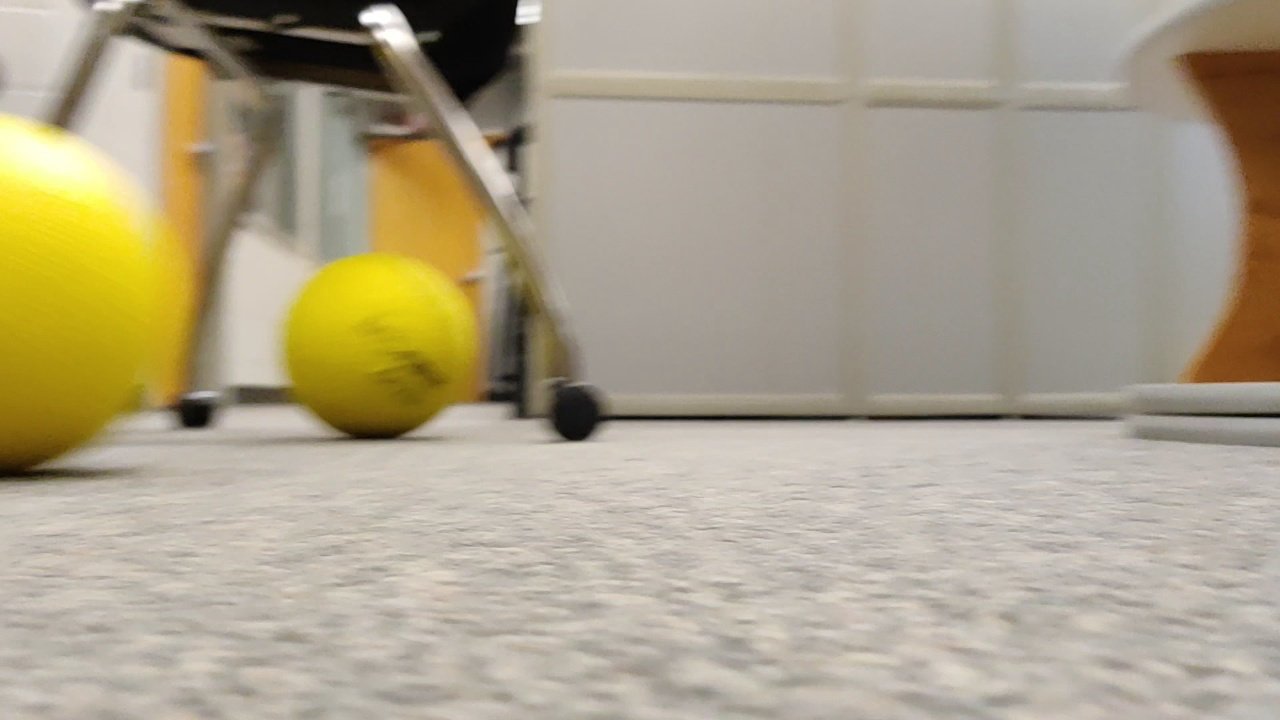Ball: (2, 112, 183, 485), (282, 256, 481, 440)
